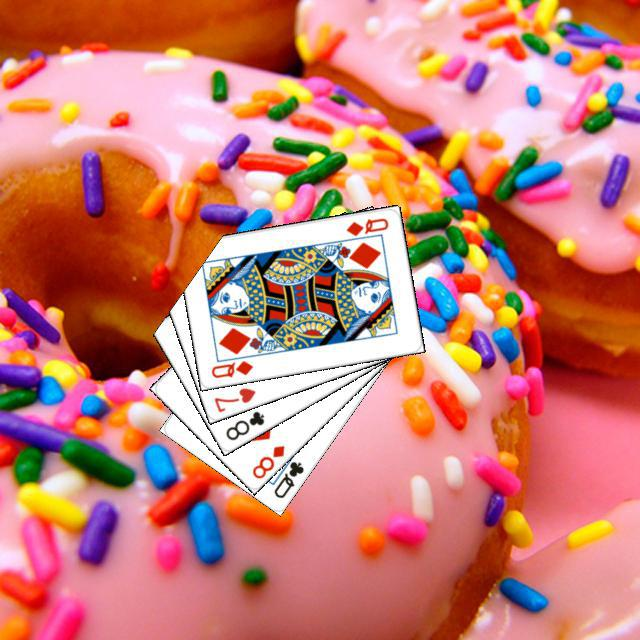7h: (209, 383, 257, 414)
8c: (221, 406, 266, 442)
8d: (247, 440, 287, 480)
Qc: (265, 448, 306, 500)
Qd: (341, 213, 390, 238), (206, 356, 254, 380)
